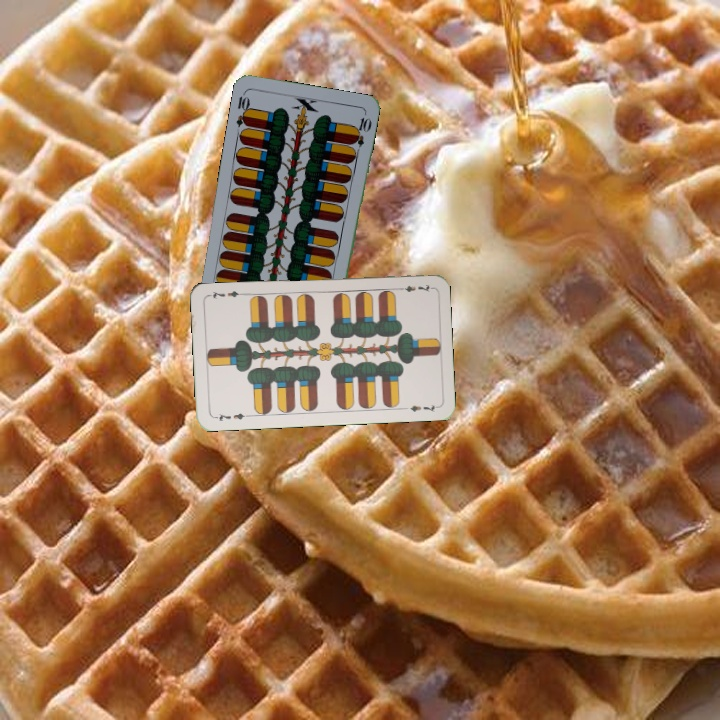E10: (232, 88, 253, 129)
E7: (210, 409, 251, 424), (393, 280, 434, 294)
